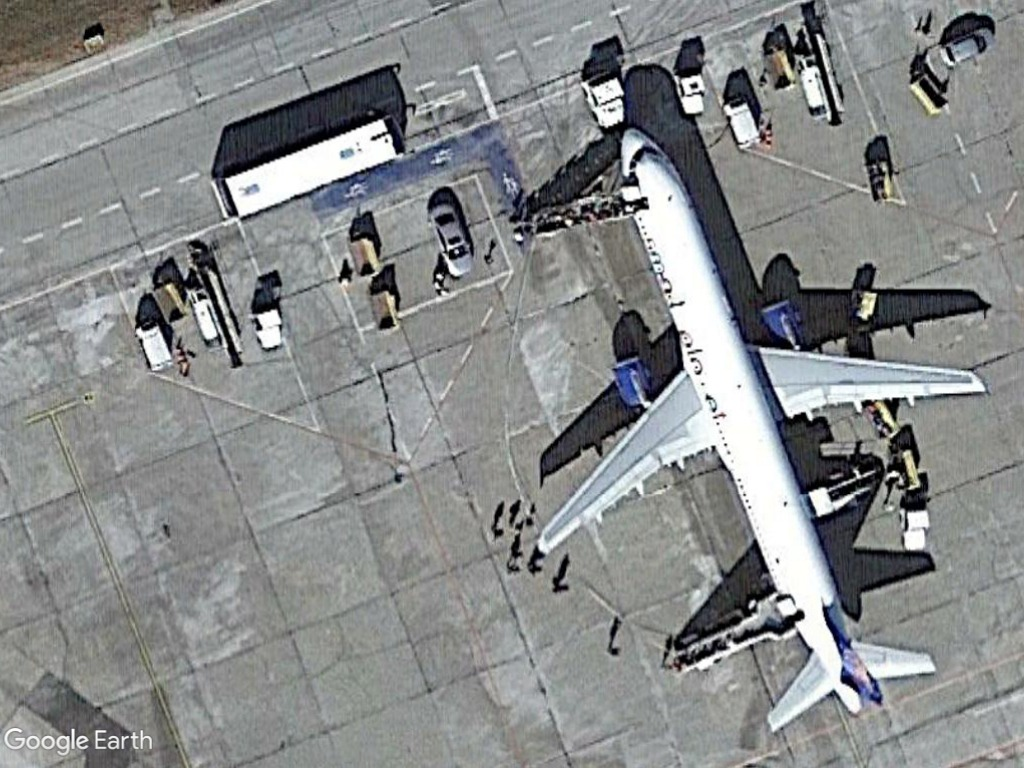airliner: (525, 127, 988, 732)
car: (424, 195, 477, 277), (936, 23, 1000, 71)
stairtruck: (666, 588, 793, 680), (805, 460, 888, 521)
